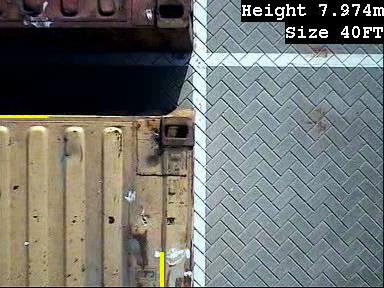groundmarker_2: (151, 55, 245, 112)
